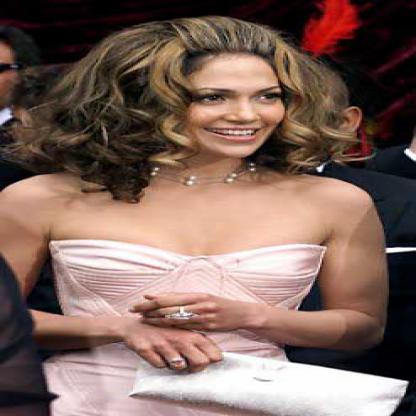face: (149, 37, 294, 161)
